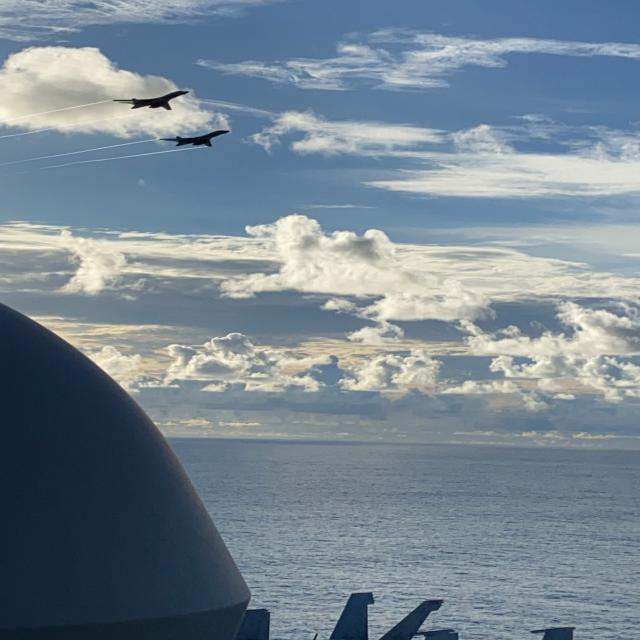MIL_Plane: (52, 91, 122, 110), (159, 69, 230, 80)
